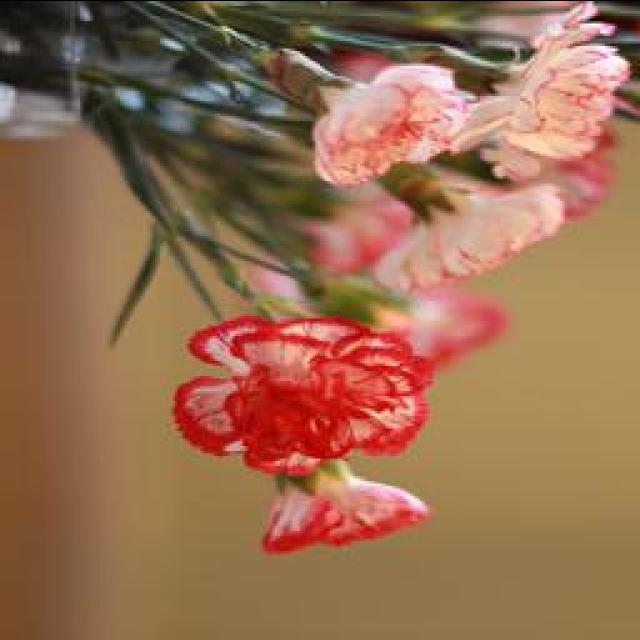carnation: (145, 281, 446, 490), (288, 44, 486, 196)
